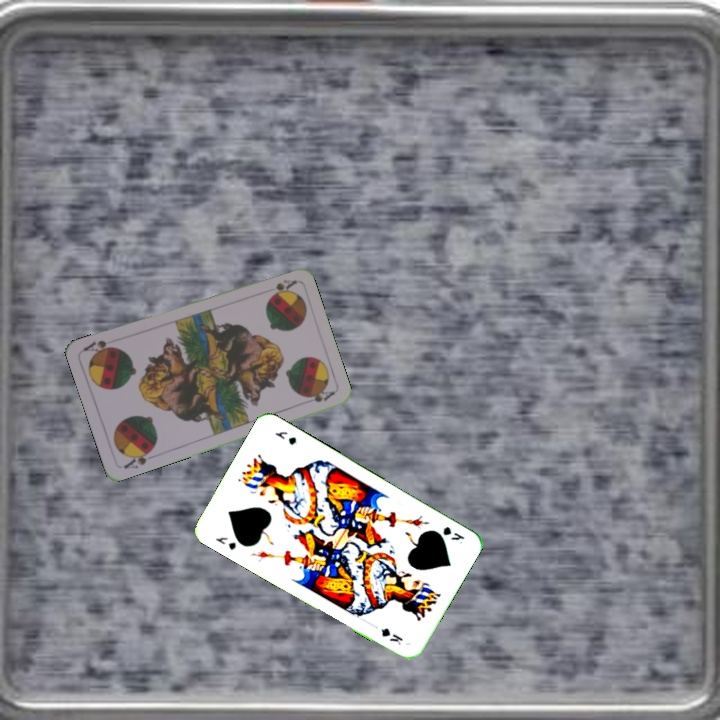GK: (439, 522, 467, 546), (211, 533, 239, 553)
SA: (119, 444, 156, 471), (270, 275, 298, 296)
